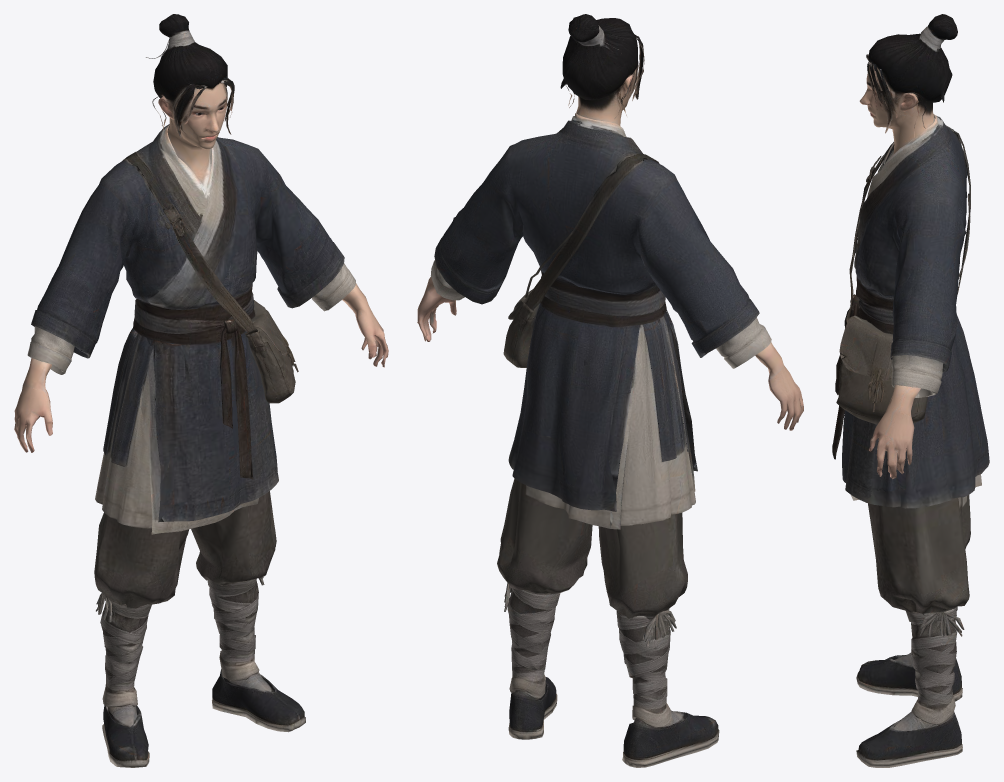
File: male.glb
The picture shows the model from 3 angles, left to right: view 1: azimuth 30°, elevation 25°; view 2: azimuth 150°, elevation 25°; view 3: azimuth 270°, elevation 25°; orthographic projection. The views are drawn at different scales.
Bounding box in the file's own units: 0.5161 × 0.9507 × 0.1919.
1 material, 1 textured.
